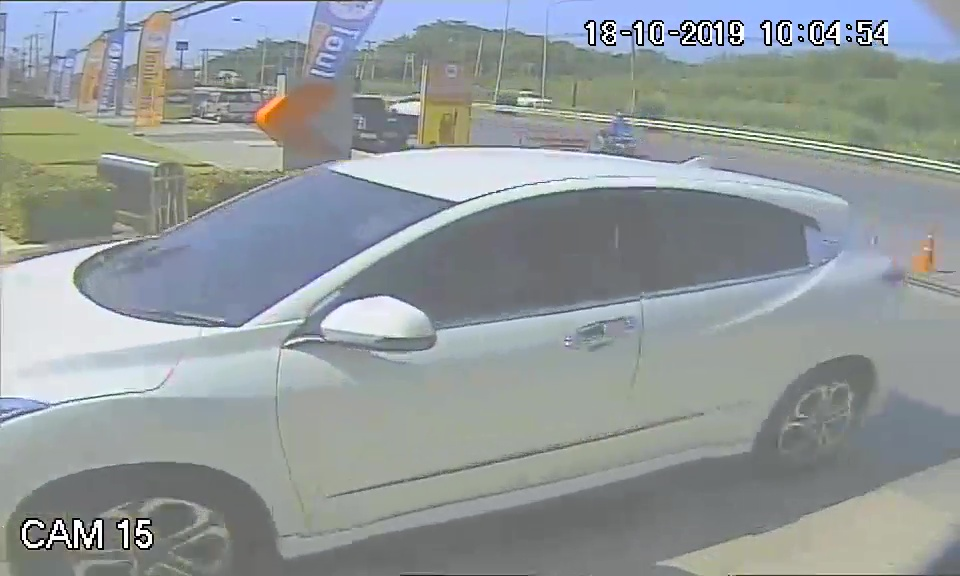sedan: (5, 141, 909, 531)
